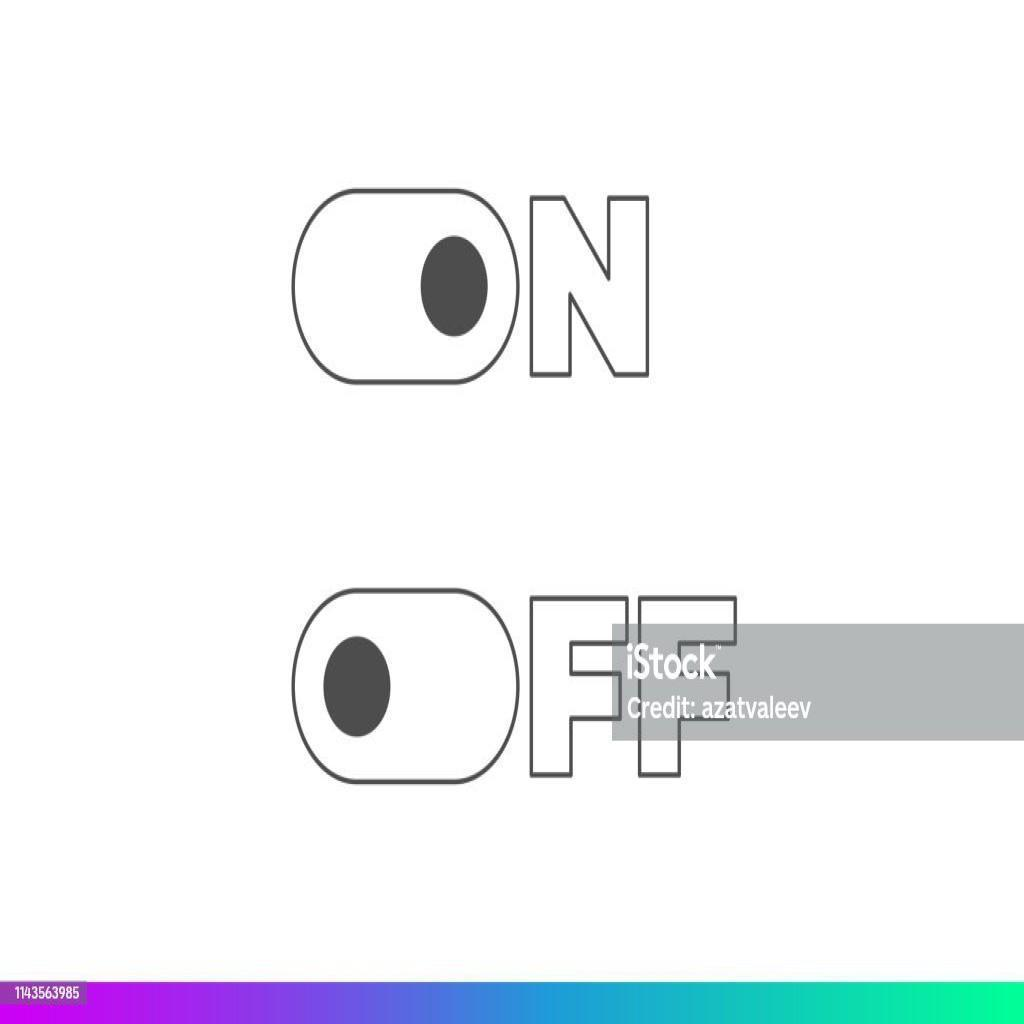switch: (290, 190, 523, 390), (292, 587, 520, 787)
